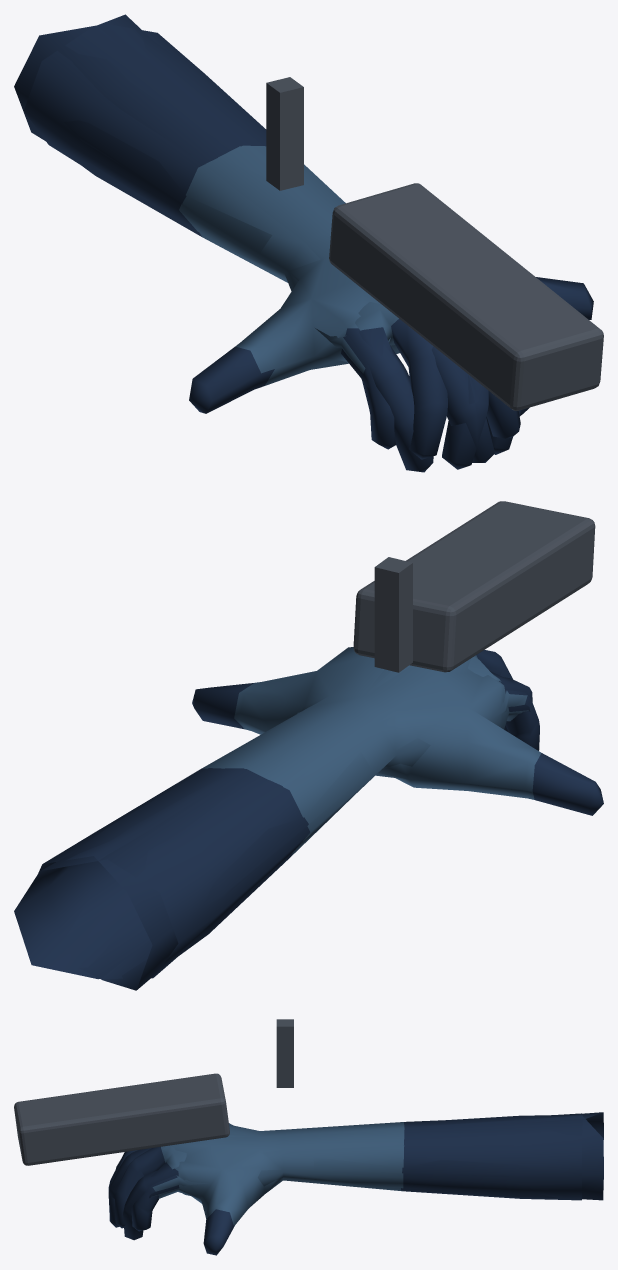
The model's file is fpvm_hands.glb.
3 views of the same model, one above another, from view 1: azimuth 30°, elevation 25°; view 2: azimuth 150°, elevation 25°; view 3: azimuth 270°, elevation 25° (orthographic). The views are drawn at different scales.
Visible parts, largest first — view 1: FPVM_GLOVE_L_MESH, FPVM_MAGAZINE, FPVM_GLOVE_R_MESH, FPVM_BOLT_HANDLE; view 2: FPVM_GLOVE_L_MESH, FPVM_GLOVE_R_MESH, FPVM_MAGAZINE, FPVM_BOLT_HANDLE; view 3: FPVM_GLOVE_L_MESH, FPVM_MAGAZINE, FPVM_GLOVE_R_MESH, FPVM_BOLT_HANDLE.
Boxes of the visible parts, x1,y1,x2,y2 form: FPVM_GLOVE_L_MESH: (14, 14, 593, 472); FPVM_MAGAZINE: (329, 183, 603, 410); FPVM_GLOVE_R_MESH: (15, 15, 592, 471); FPVM_BOLT_HANDLE: (266, 77, 303, 190); FPVM_GLOVE_L_MESH: (14, 647, 603, 990); FPVM_GLOVE_R_MESH: (15, 647, 601, 990); FPVM_MAGAZINE: (353, 501, 595, 672); FPVM_BOLT_HANDLE: (374, 557, 412, 672); FPVM_GLOVE_L_MESH: (108, 1112, 603, 1255); FPVM_MAGAZINE: (14, 1073, 229, 1165); FPVM_GLOVE_R_MESH: (109, 1112, 603, 1254); FPVM_BOLT_HANDLE: (276, 1019, 293, 1087).
Size of the model in its own units: 0.4754 by 0.3376 by 0.957.
